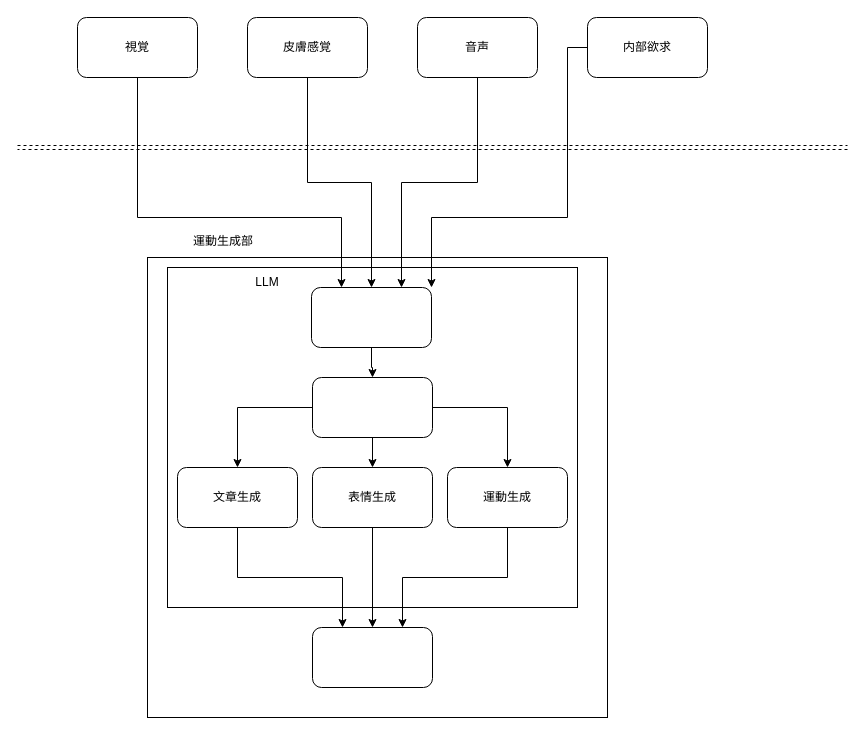
Some shapes in this 865 by 735 pixel diagram are drawn without their labels. Here are the shapes that lost their labels. From the top down, the centre of each, then its label:
(371,317): 入力
(372,407): 行動生成
(372,657): 出力
